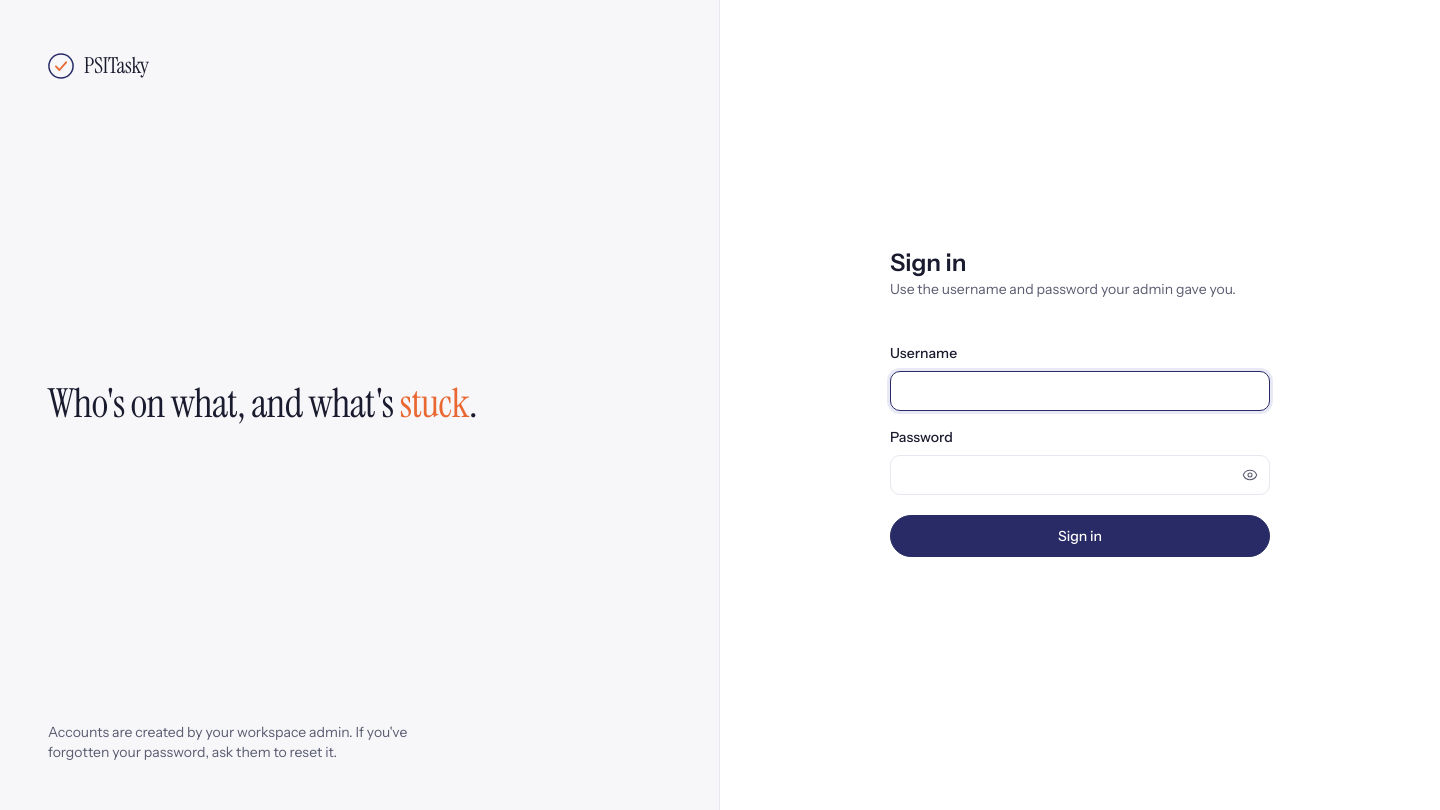
Test: Login › asks for both fields before submitting
The image size is (1440, 810).
Click the button "Sign in".
click(1080, 536)  # box [890, 515, 1270, 557]
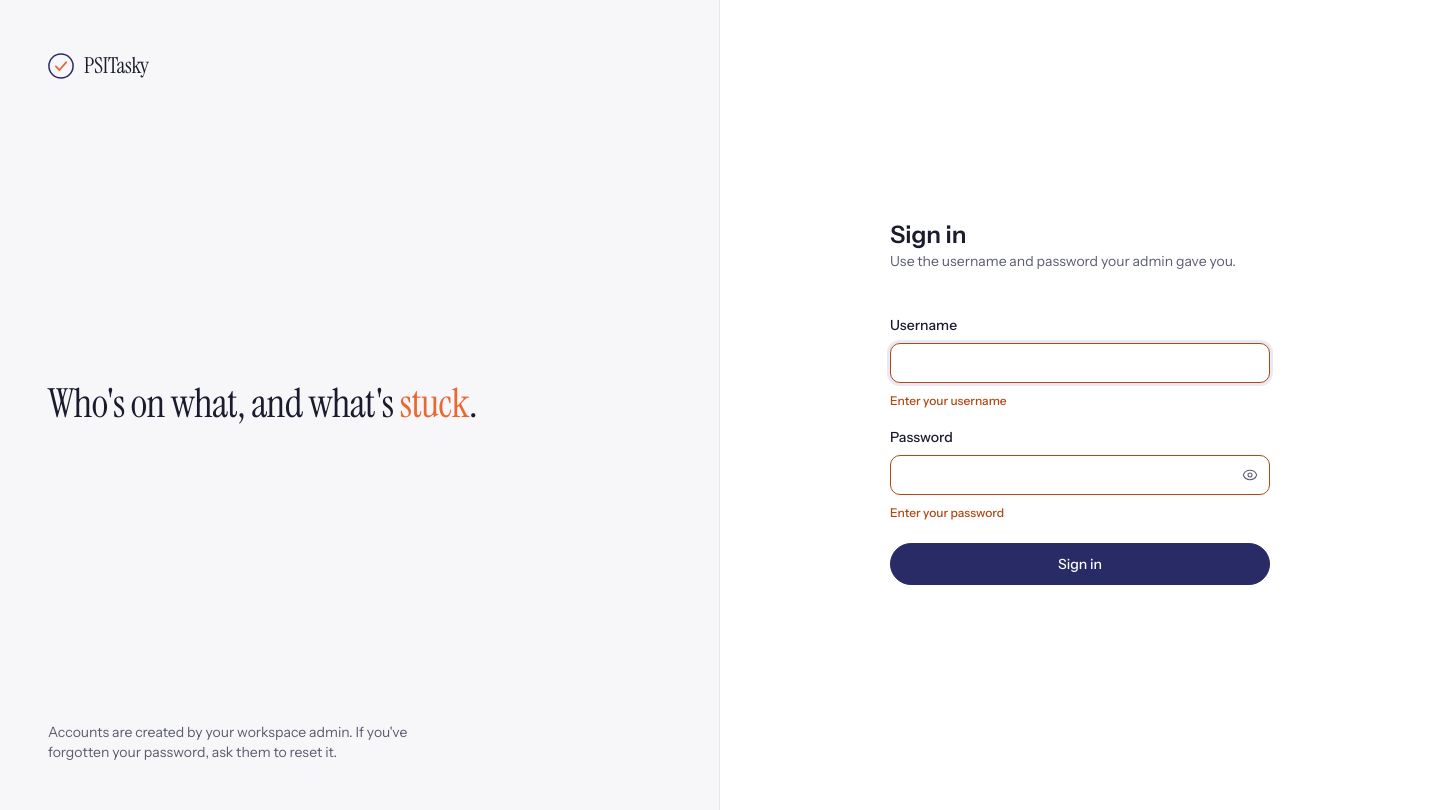
Result: the text "Enter your username" is shown at [890, 393, 1007, 408]
Result: the text "Enter your password" is shown at [890, 505, 1004, 520]
